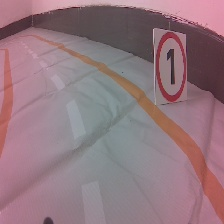limit: (151, 26, 191, 107)
